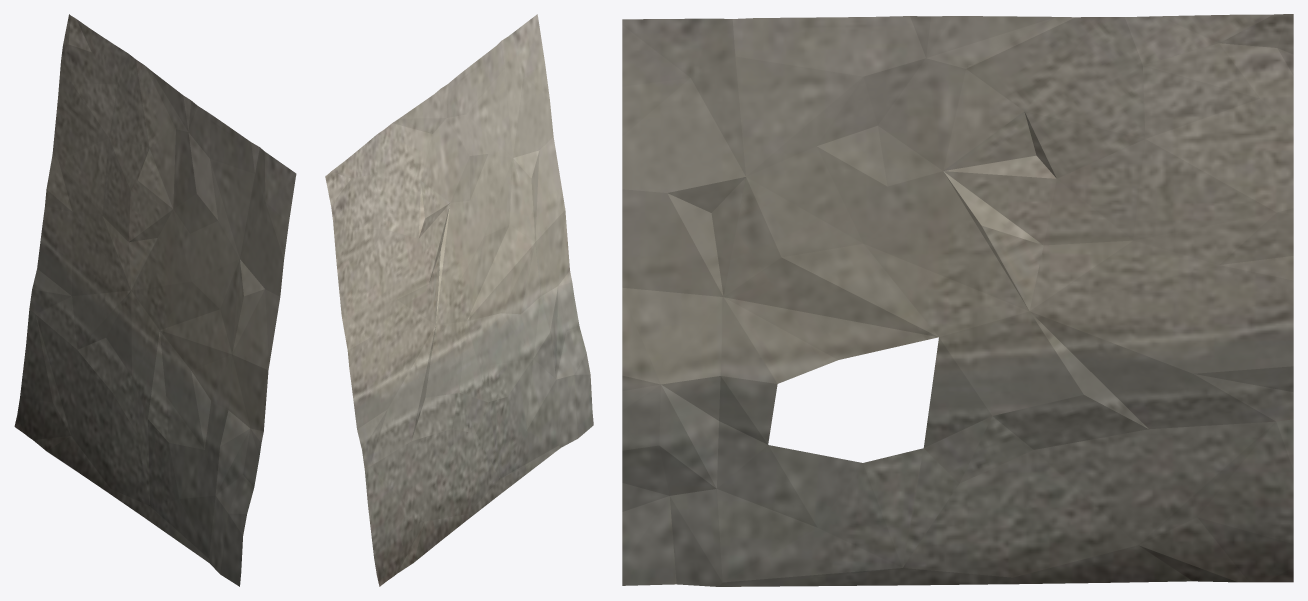
3 renders of one model, left to right at view 1: azimuth 30°, elevation 25°; view 2: azimuth 150°, elevation 25°; view 3: azimuth 270°, elevation 25°, orthographic. The views are drawn at different scales.
Bounding box in the file's own units: 0.2749 × 1.67 × 1.67.
3 materials, 3 textured.
